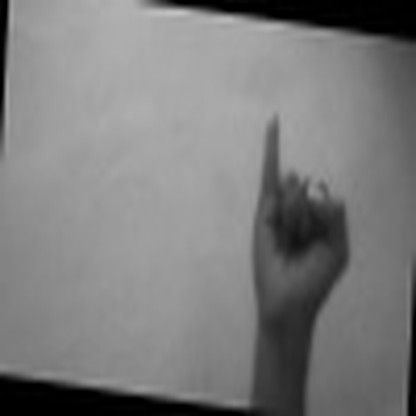i: (242, 103, 362, 336)
